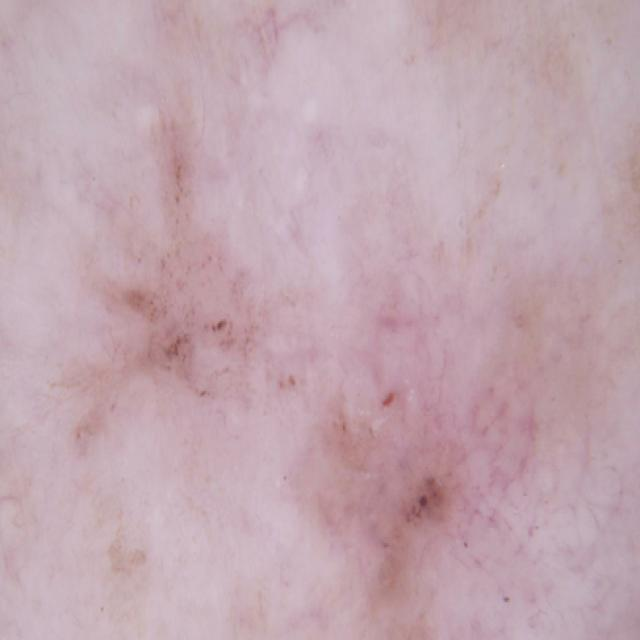Carcinoma: (171, 275, 538, 618)
